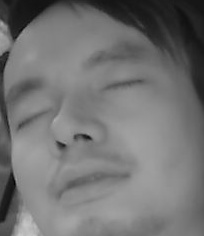blink: (102, 73, 143, 95), (16, 109, 51, 131)
mouth: (49, 155, 131, 208)
